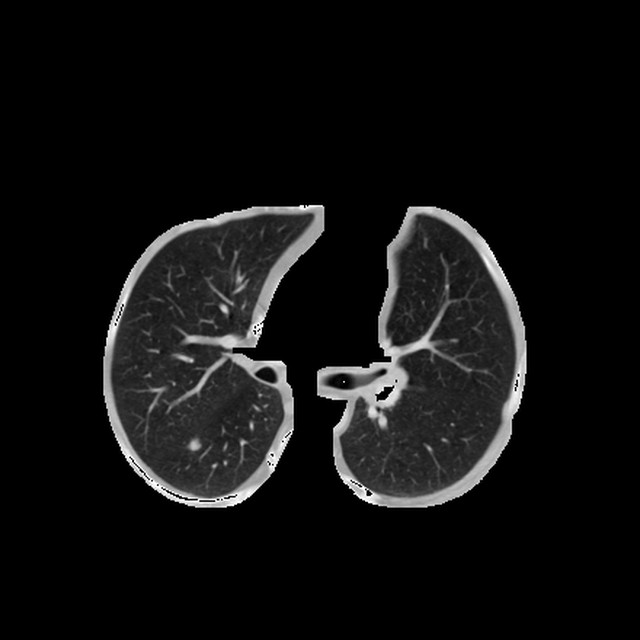PN: (188, 439, 199, 451)
